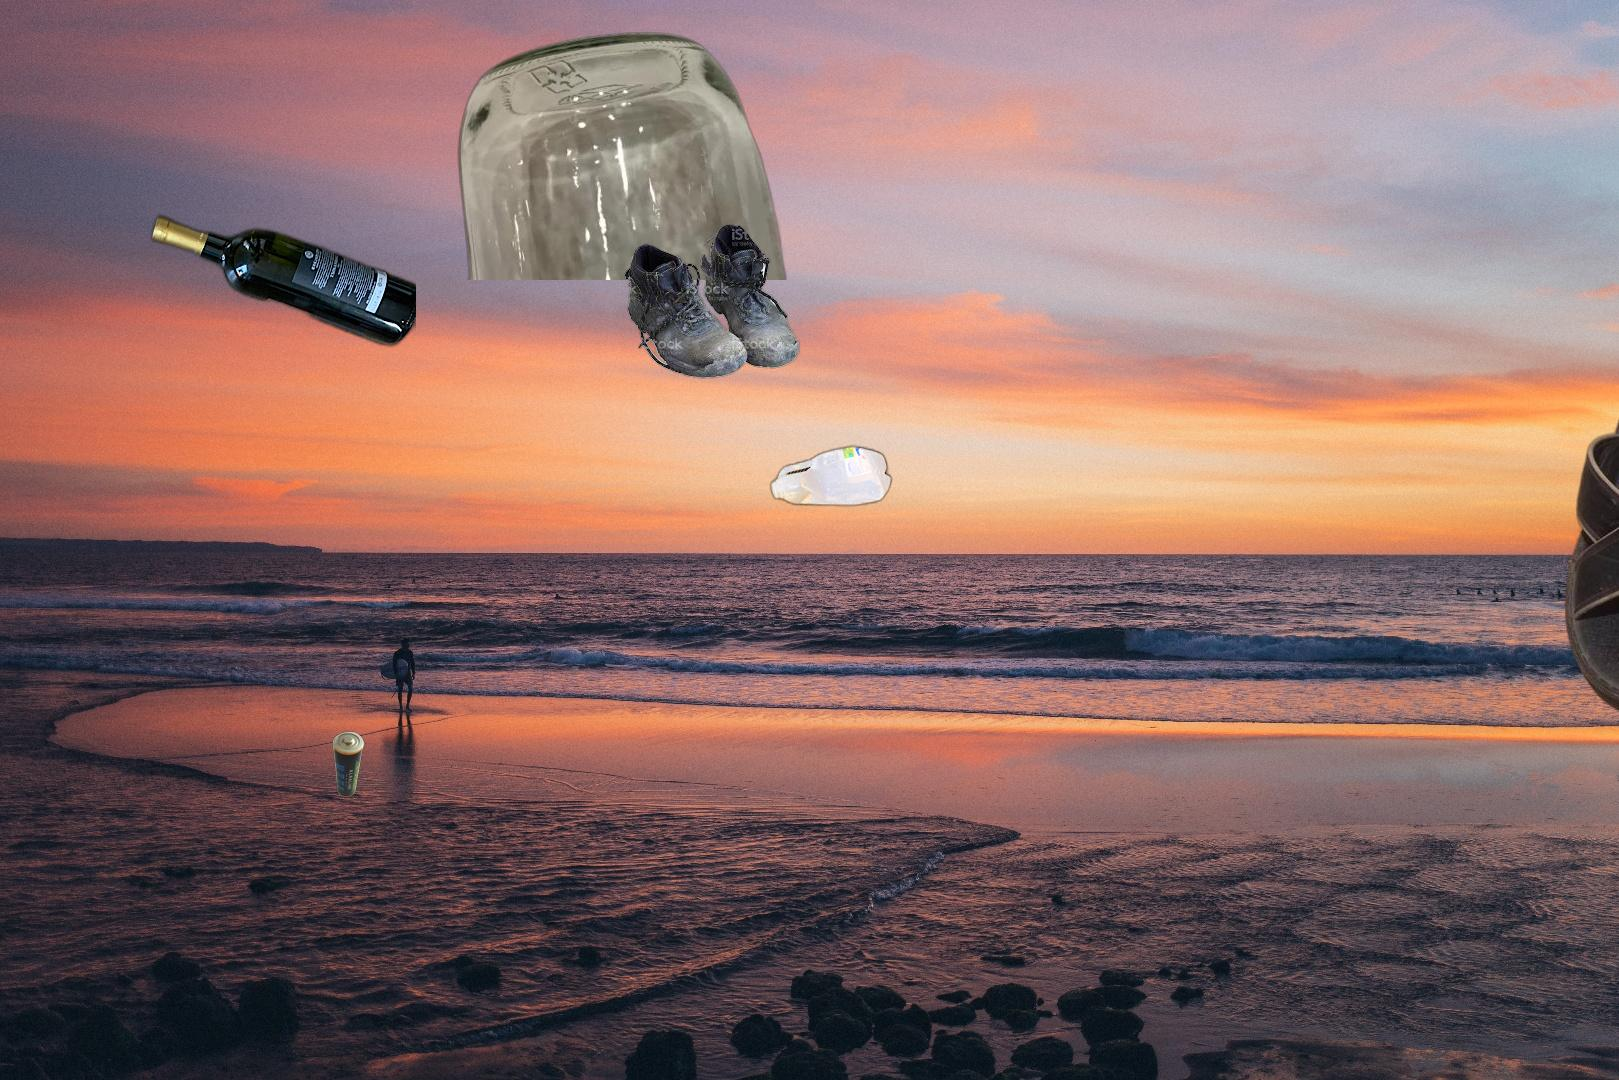battery: (330, 729, 368, 800)
glass: (454, 29, 791, 280), (147, 210, 416, 352)
plastic-bottles: (767, 78, 986, 512)
shoes: (622, 222, 803, 382), (1561, 376, 1619, 732)
